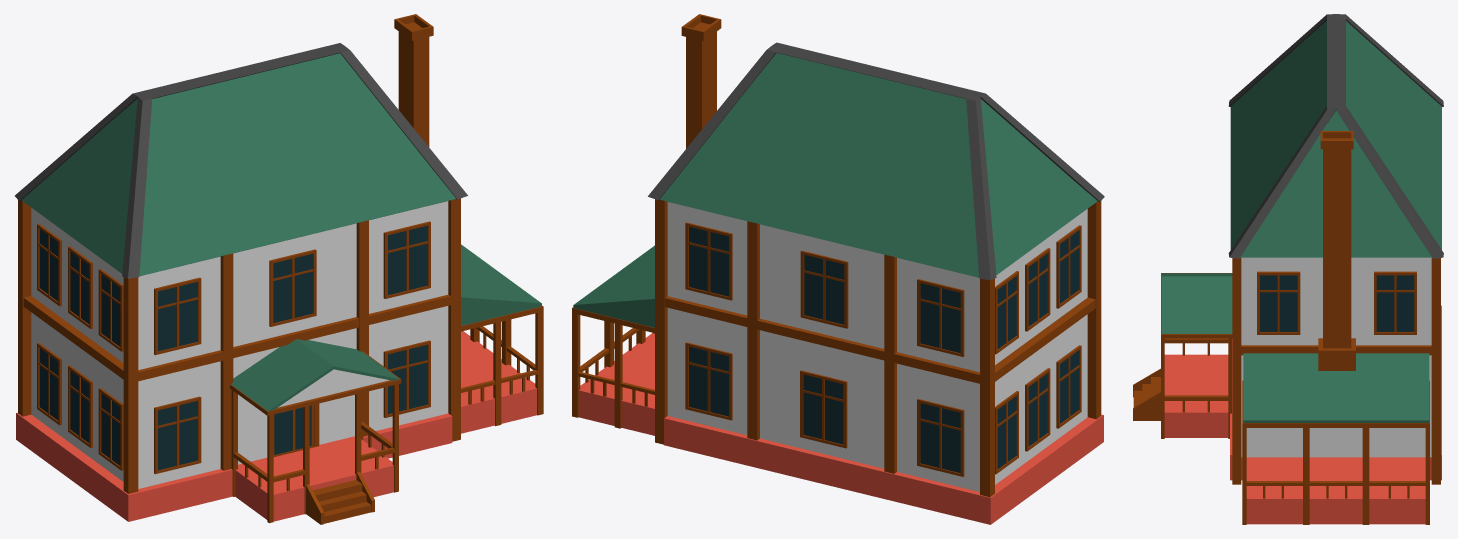
The model's file is House_15.FBX.
3 views of the same model, side by side, from view 1: azimuth 30°, elevation 25°; view 2: azimuth 150°, elevation 25°; view 3: azimuth 270°, elevation 25° (orthographic). The views are drawn at different scales.
Parts seen in each view (by area): view 1: House_15; view 2: House_15; view 3: House_15.
Part boxes in pixels (left/top/right/bottom): House_15: left=15, top=14, right=543, bottom=524; House_15: left=572, top=14, right=1104, bottom=524; House_15: left=1133, top=14, right=1443, bottom=524.
Size of the model in its own units: 11.02 by 9.31 by 7.43.
1 material, 1 textured.
